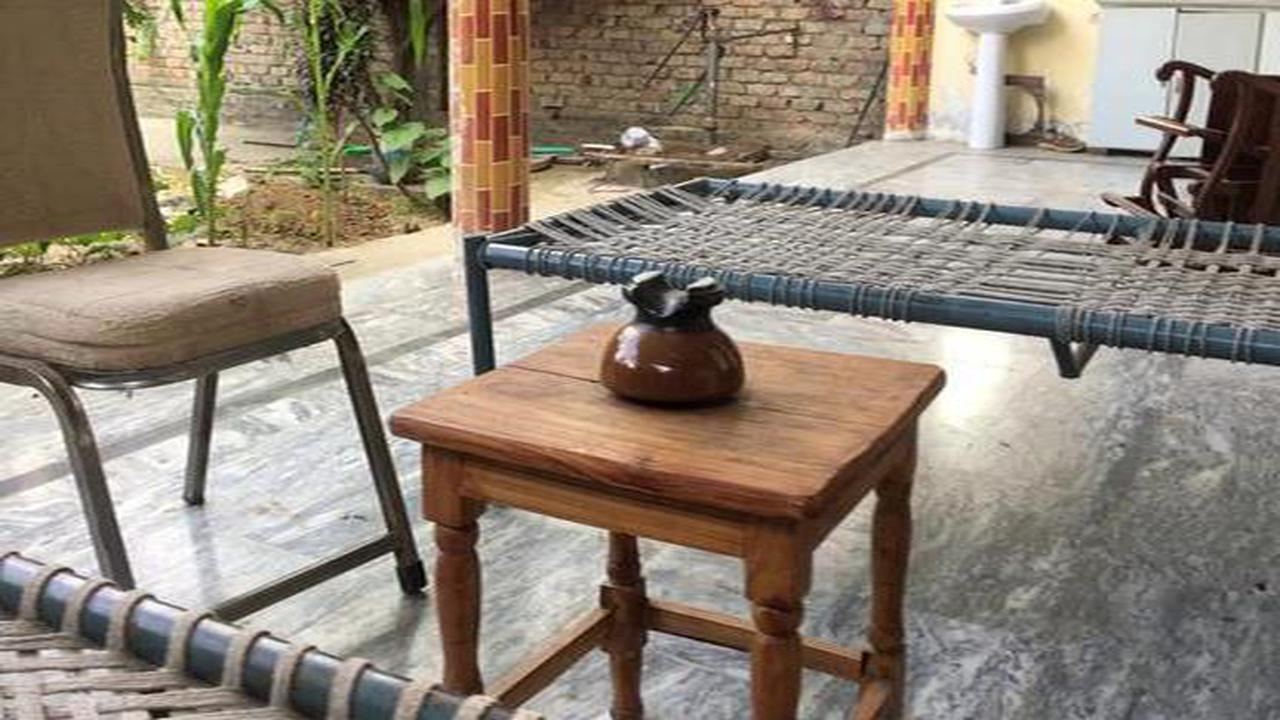insulator_pin: (561, 257, 770, 412)
